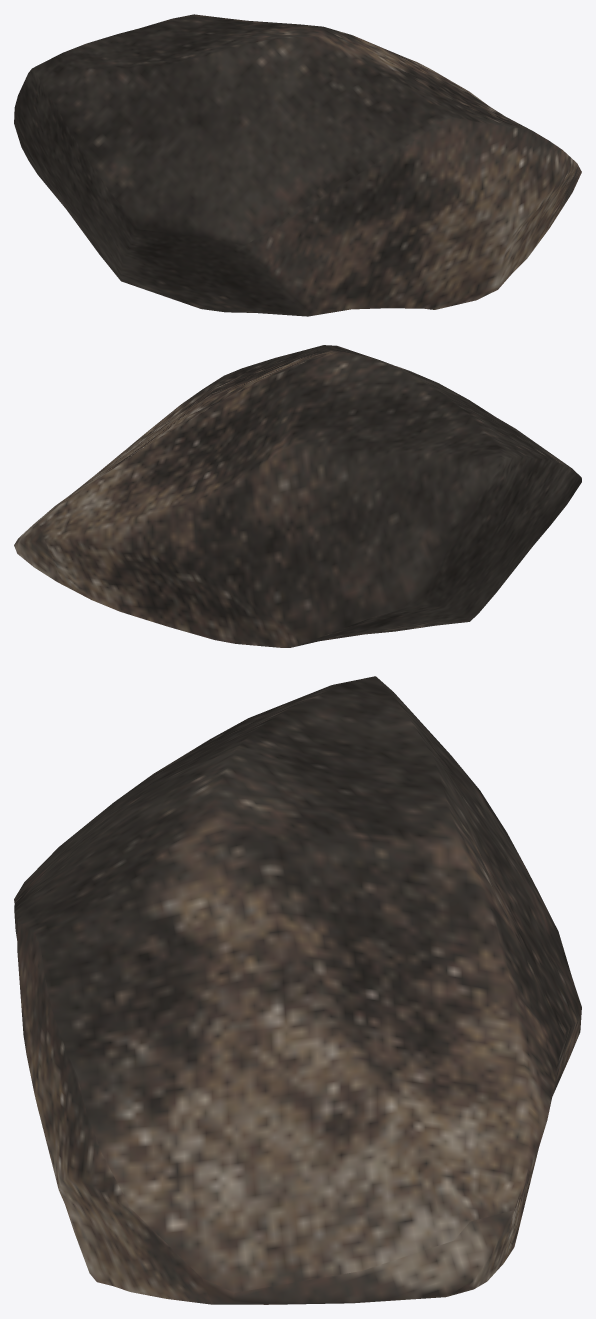
The model's file is SM_RP_Rock_2m_1.glb.
The picture shows the model from 3 angles, top to bottom: view 1: azimuth 30°, elevation 25°; view 2: azimuth 150°, elevation 25°; view 3: azimuth 270°, elevation 25°; orthographic projection. The views are drawn at different scales.
Visible parts, largest first — view 1: SM_RP_Rock_2m_1; view 2: SM_RP_Rock_2m_1; view 3: SM_RP_Rock_2m_1.
Part boxes in pixels (bbox=[...]): SM_RP_Rock_2m_1: bbox=[14, 14, 581, 316]; SM_RP_Rock_2m_1: bbox=[14, 345, 581, 647]; SM_RP_Rock_2m_1: bbox=[14, 676, 581, 1304].
Bounding box in the file's own units: 3.47 × 1.82 × 2.36.
1 material, 1 textured.
